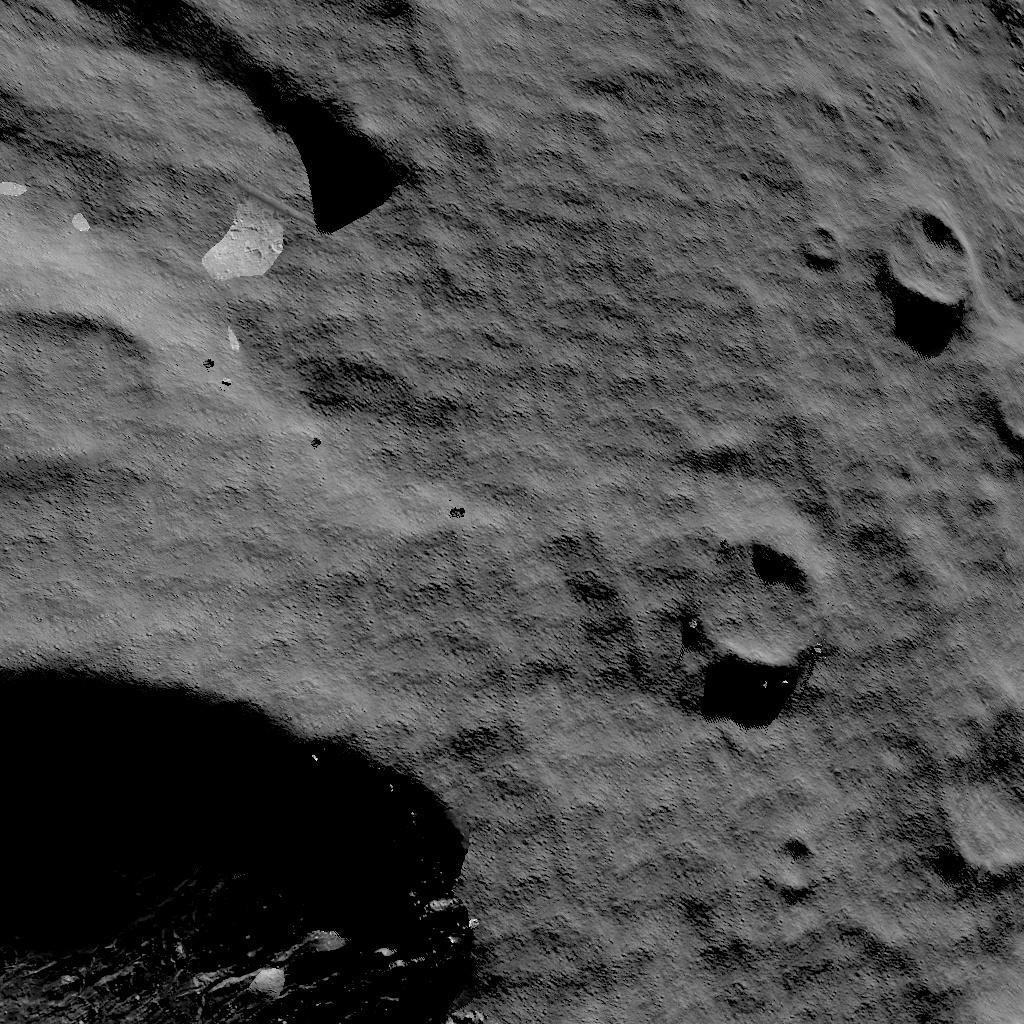Crater: (0, 643, 503, 1024), (0, 0, 411, 262), (0, 290, 167, 488), (679, 533, 841, 690), (924, 688, 1024, 912), (874, 190, 991, 338), (759, 830, 831, 902), (804, 220, 847, 274)
Plan surface: (426, 0, 791, 486), (519, 700, 749, 1024)
